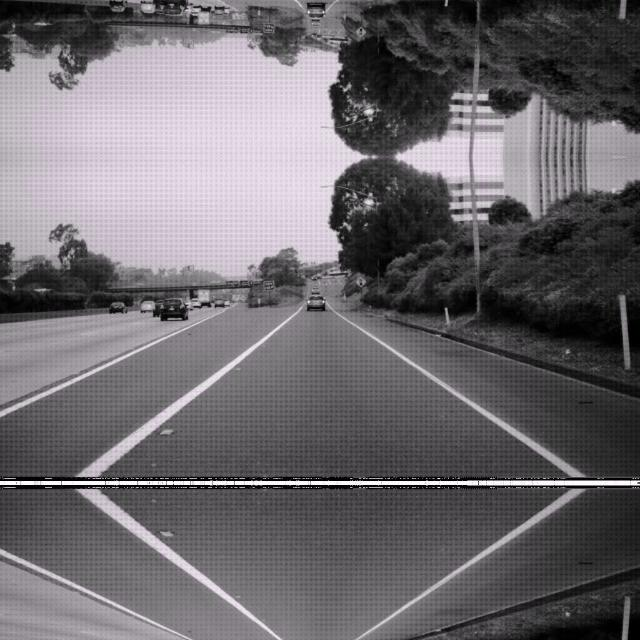signalAhead: (354, 274, 366, 288), (354, 24, 366, 38)
